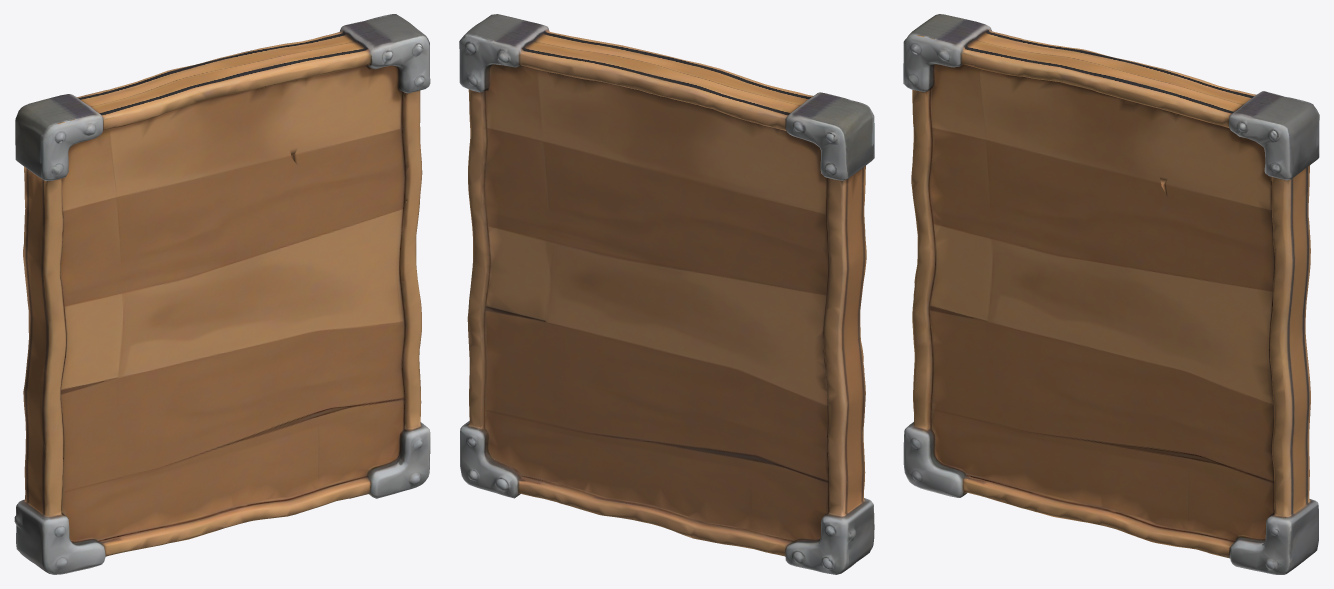
Rendered from Reinforced Wooden Pan.glb.
3 renders of one model, left to right at view 1: azimuth 30°, elevation 25°; view 2: azimuth 150°, elevation 25°; view 3: azimuth 330°, elevation 25°, orthographic.
Size of the model in its own units: 1.81 by 2 by 0.3201.
Materials: 1 (1 with a texture image).
